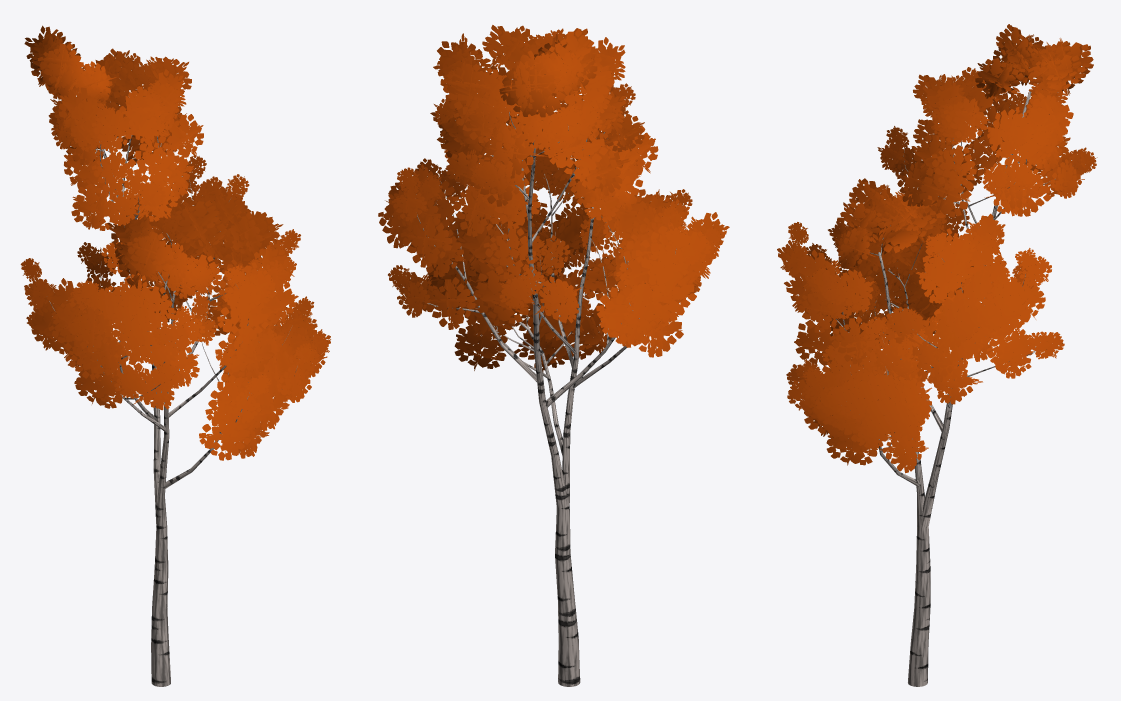
The model's file is nature_birch_1.glb.
3 views of the same model, side by side, from view 1: azimuth 30°, elevation 25°; view 2: azimuth 150°, elevation 25°; view 3: azimuth 270°, elevation 25° (orthographic). The views are drawn at different scales.
Parts seen in each view (by area): view 1: nature_birch_1; view 2: nature_birch_1; view 3: nature_birch_1.
Boxes of the visible parts, x1=… form: nature_birch_1: x1=20, y1=25, x2=330, y2=686; nature_birch_1: x1=378, y1=25, x2=729, y2=686; nature_birch_1: x1=777, y1=24, x2=1097, y2=686.
Bounding box in the file's own units: 643 × 1372 × 654.
Materials: 2 (2 with a texture image).
